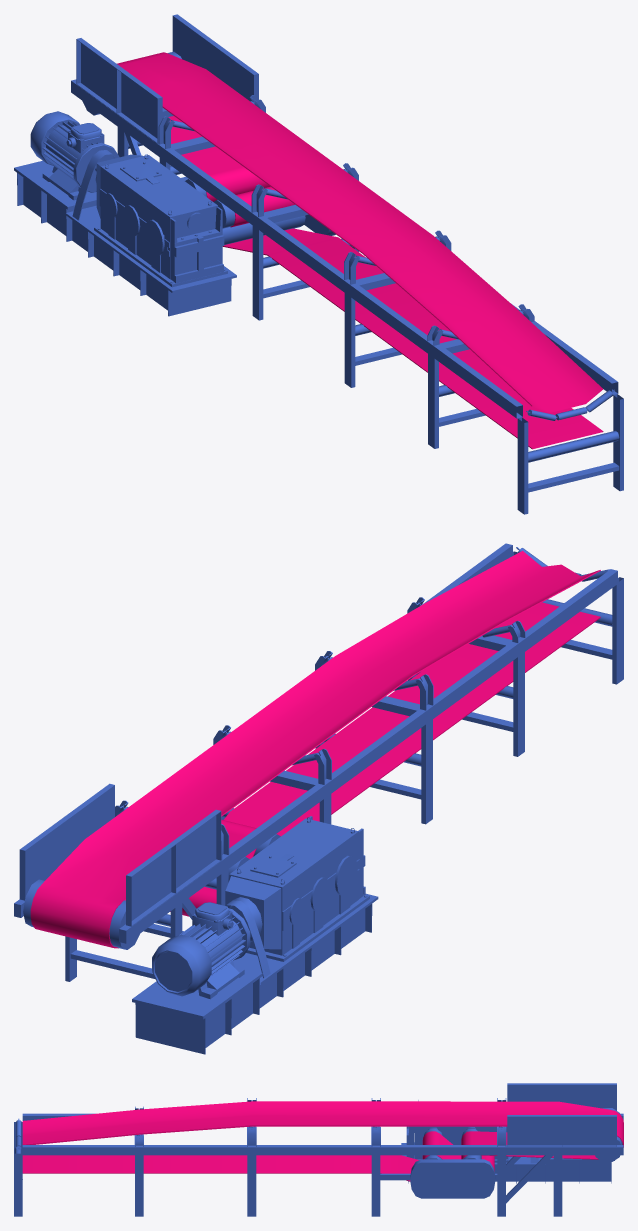
Rendered from PiDaiJiA.fbx.
3 views of the same model, one above another, from view 1: azimuth 30°, elevation 25°; view 2: azimuth 150°, elevation 25°; view 3: azimuth 270°, elevation 25° (orthographic). The views are drawn at different scales.
Parts seen in each view (by area): view 1: PiDaiJiA_LOD0; view 2: PiDaiJiA_LOD0; view 3: PiDaiJiA_LOD0.
Part boxes in pixels (<box>): PiDaiJiA_LOD0: <box>14,14,623,514</box>; PiDaiJiA_LOD0: <box>14,543,623,1054</box>; PiDaiJiA_LOD0: <box>14,1083,623,1216</box>.
Size of what is drawn, in the model's own units: 196 by 160 by 883.
